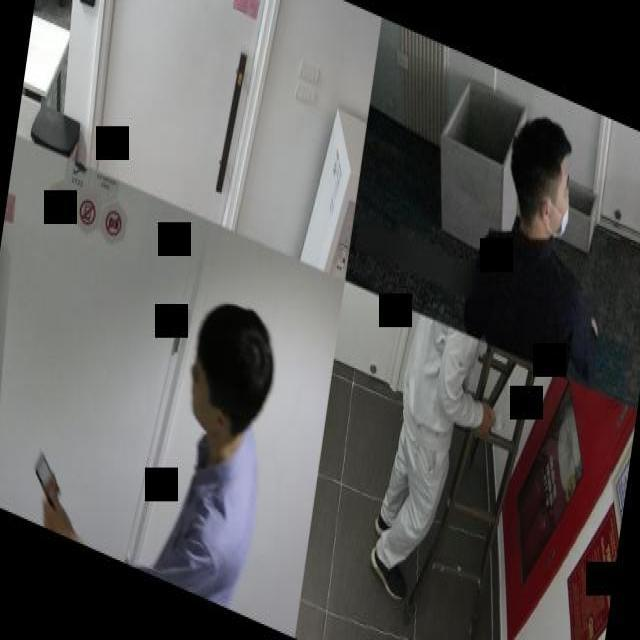hairnet: (545, 165, 571, 240)
